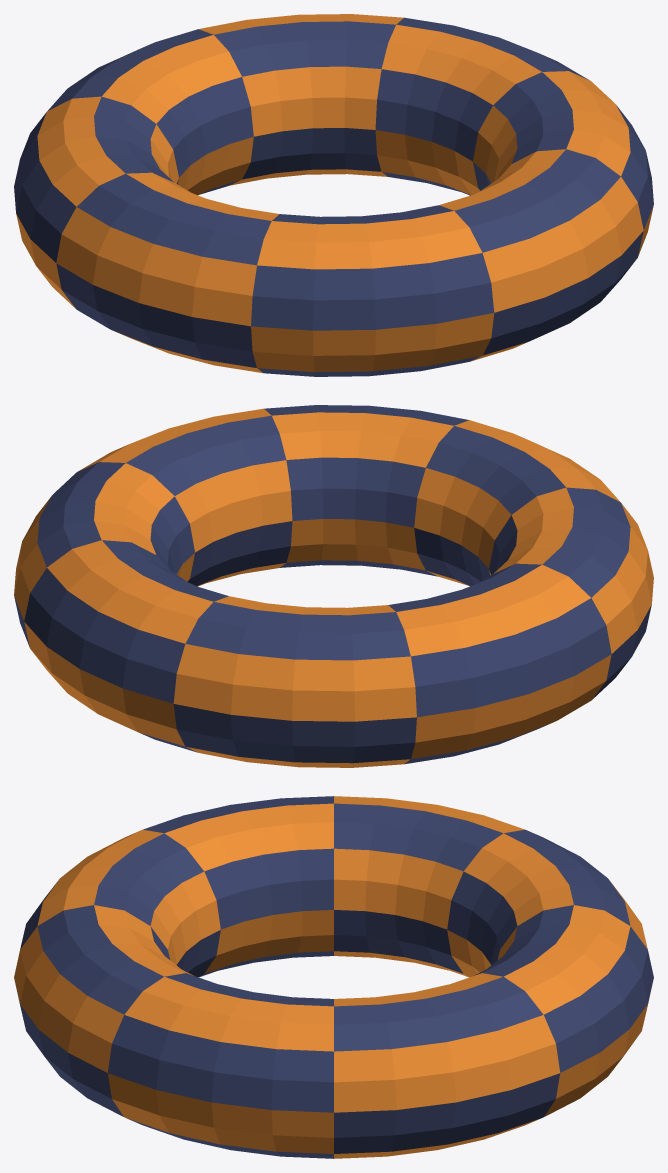
File: toro.obj
3 renders of one model, top to bottom at view 1: azimuth 30°, elevation 25°; view 2: azimuth 150°, elevation 25°; view 3: azimuth 270°, elevation 25°, orthographic.
Parts seen in each view (by area): view 1: toro; view 2: toro; view 3: toro.
Boxes of the visible parts, <box> form: toro: <box>14,14,653,376</box>; toro: <box>14,405,653,767</box>; toro: <box>14,796,653,1158</box>.
Bounding box in the file's own units: 1.6 × 0.4 × 1.6.
Materials: 1 (1 with a texture image).
